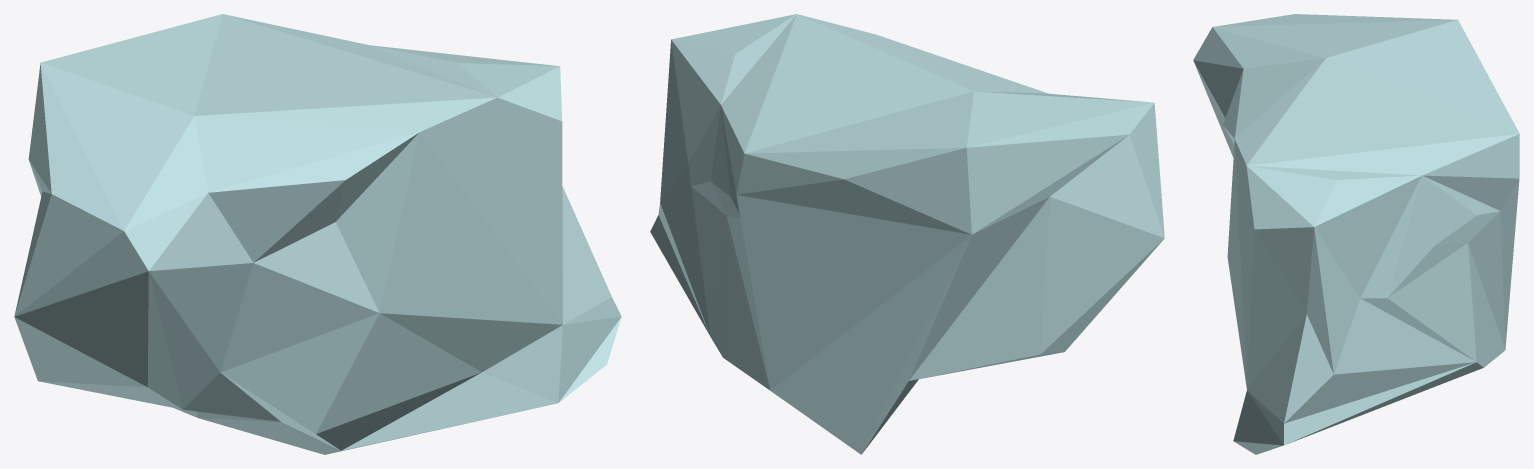
Rendered from SM_GLG_Rock_04_A.obj.
3 renders of one model, left to right at view 1: azimuth 30°, elevation 25°; view 2: azimuth 150°, elevation 25°; view 3: azimuth 270°, elevation 25°, orthographic. The views are drawn at different scales.
Parts seen in each view (by area): view 1: SM_GLG_Rock_04_A; view 2: SM_GLG_Rock_04_A; view 3: SM_GLG_Rock_04_A.
Boxes of the visible parts, bbox=[...] form: SM_GLG_Rock_04_A: bbox=[14, 14, 621, 454]; SM_GLG_Rock_04_A: bbox=[650, 14, 1164, 454]; SM_GLG_Rock_04_A: bbox=[1193, 14, 1519, 454].
Size of the model in its own units: 198 by 117 by 114.
